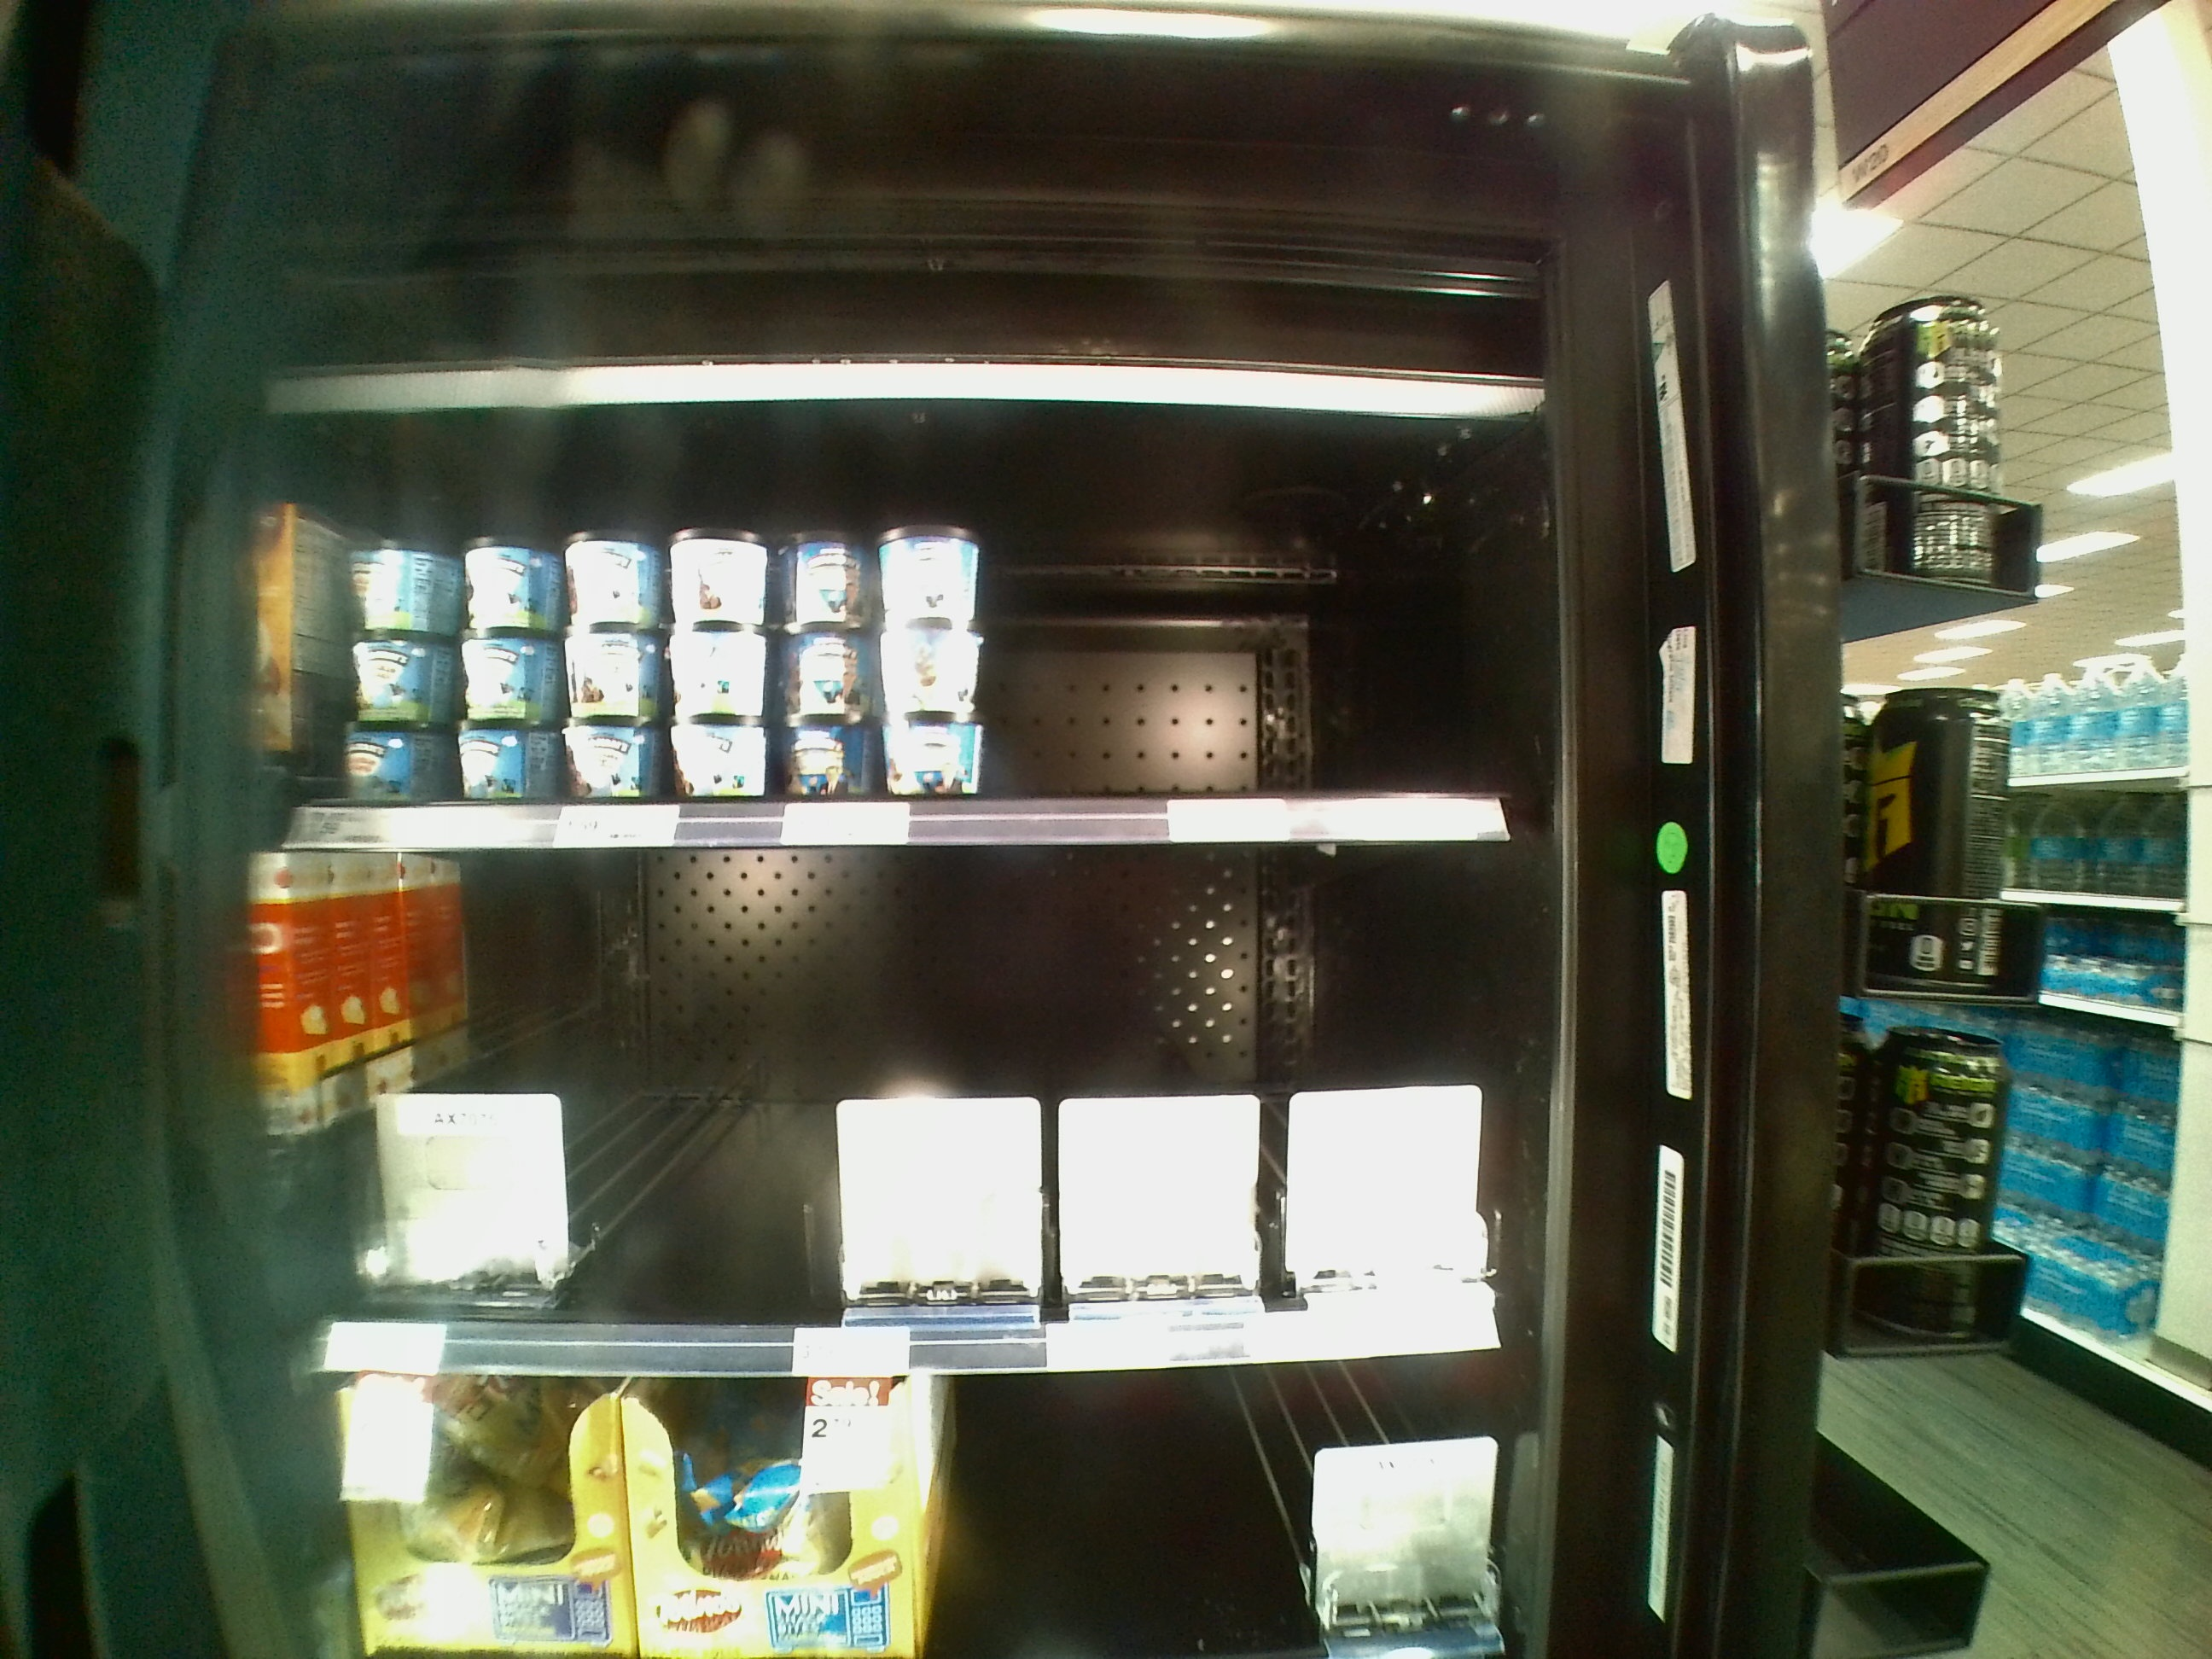shelf: (310, 849, 1545, 1364), (282, 397, 1538, 847), (333, 1368, 1517, 1659)
